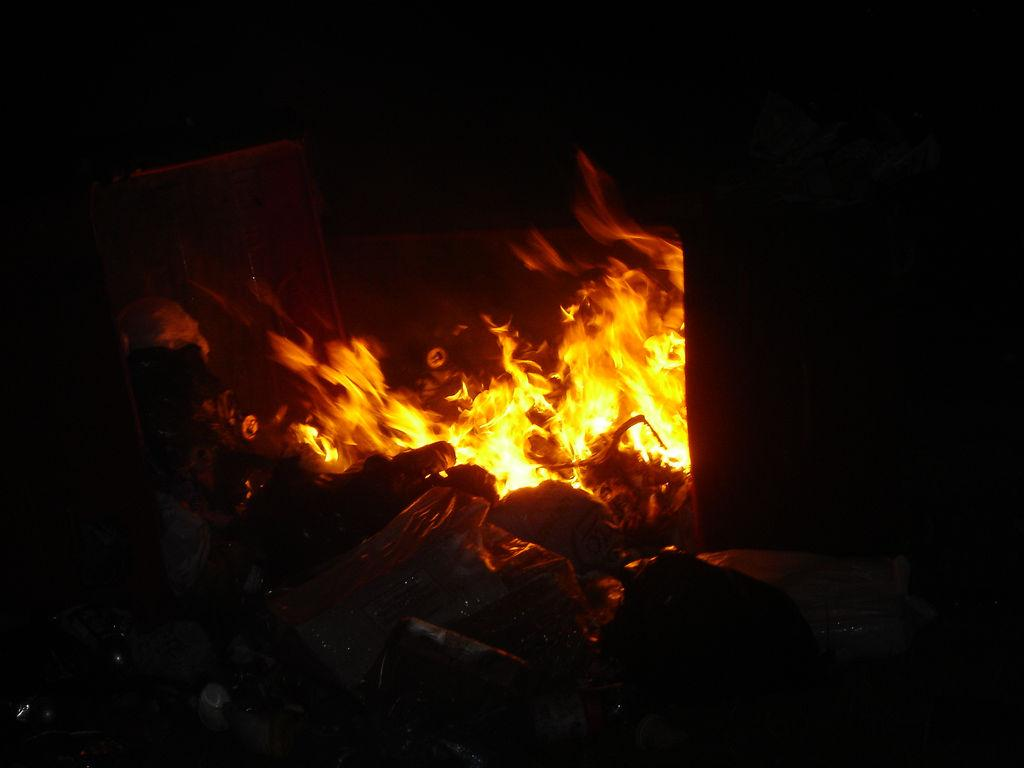fire: (584, 300, 692, 460), (420, 374, 544, 492), (302, 356, 392, 464)
